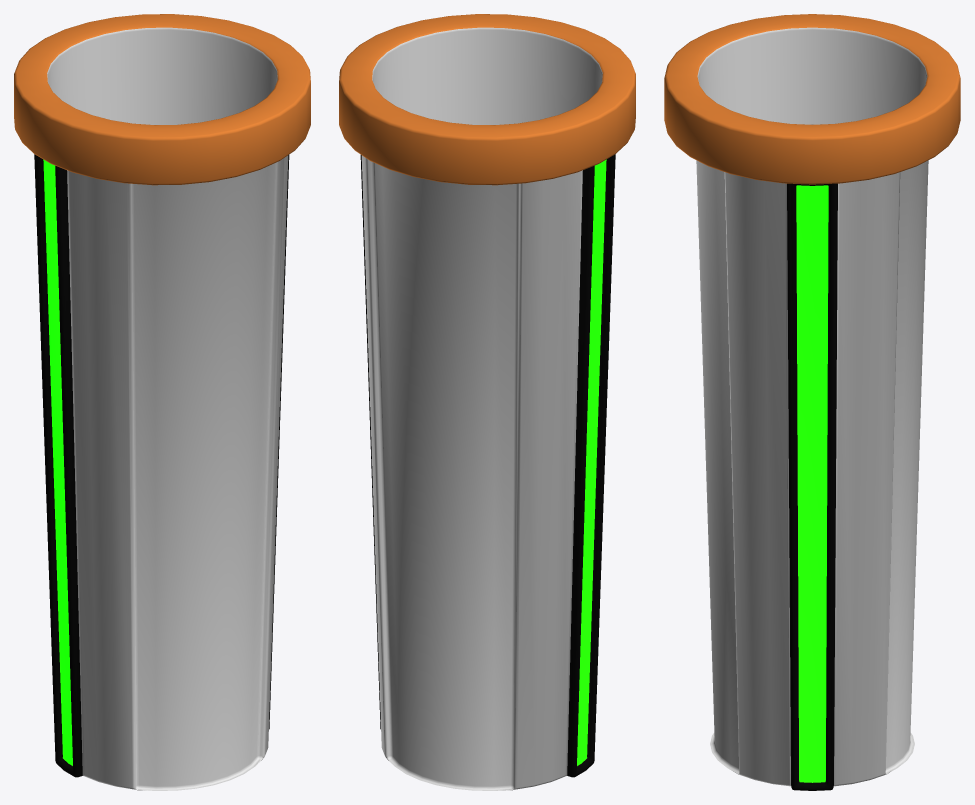
File: Tubo 2.fbx
3 views of the same model, side by side, from view 1: azimuth 30°, elevation 25°; view 2: azimuth 150°, elevation 25°; view 3: azimuth 270°, elevation 25° (orthographic).
Parts seen in each view (by area): view 1: Tubo 2; view 2: Tubo 2; view 3: Tubo 2.
Boxes of the visible parts, x1,y1,x2,y2 form: Tubo 2: [14, 14, 310, 790]; Tubo 2: [339, 14, 635, 790]; Tubo 2: [664, 14, 960, 790].
Bounding box in the file's own units: 562 × 1400 × 562.
